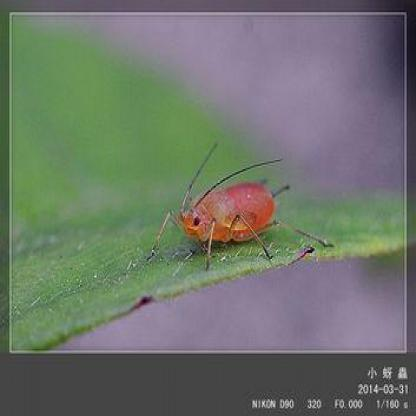aphid: (145, 138, 314, 272)
